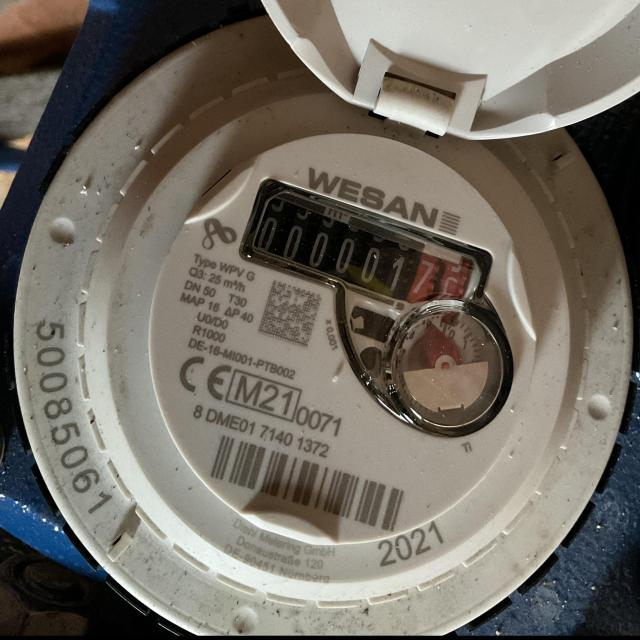gaz_meter: (101, 89, 574, 598)
indication: (243, 178, 481, 321)
